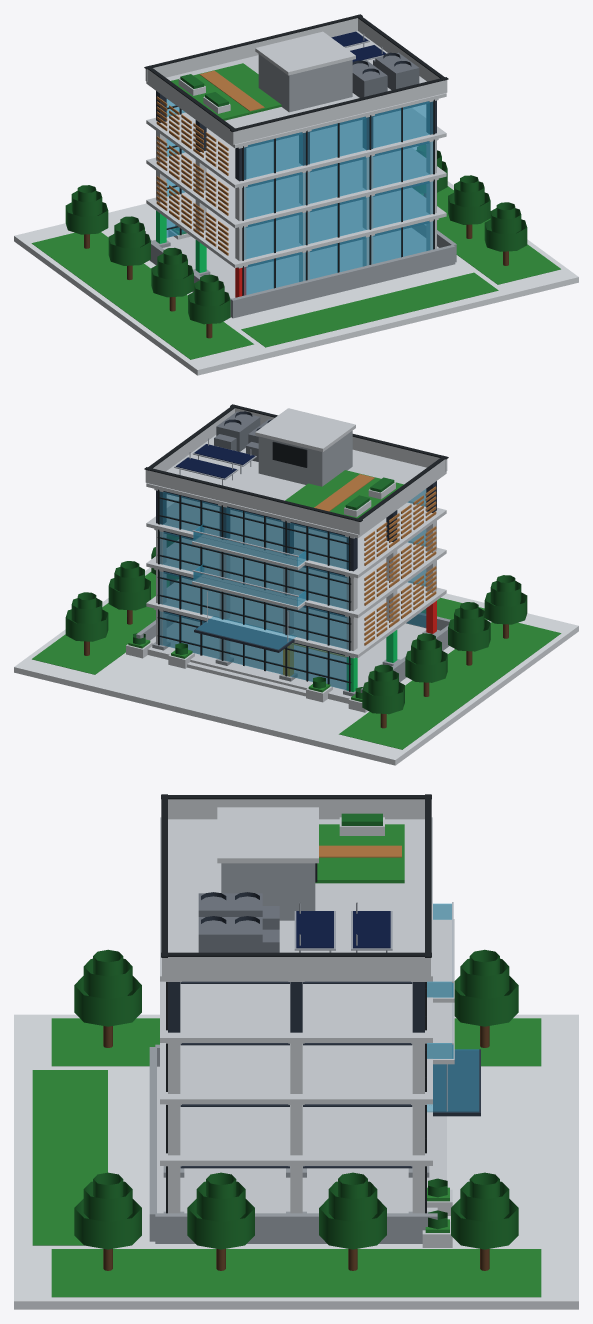
File: BIM_Building_Detailed.obj
3 views of the same model, one above another, from view 1: azimuth 30°, elevation 25°; view 2: azimuth 150°, elevation 25°; view 3: azimuth 270°, elevation 25° (orthographic). The views are drawn at different scales.
Parts seen in each view (by area): view 1: Group_Mat_PrecastConcrete, Group_Mat_CurtainGlass, Group_Mat_GreenTurf, Group_Mat_PlazaPaving, Group_Mat_TreeFoliage, Group_Mat_CoreConcrete, Group_Mat_TimberLouvers, Group_Mat_MetalMullion, Group_Mat_StructuralSteel, Group_Mat_HVACMetal, Group_Mat_SolarPV, Group_Mat_StatusComplete (+1 smaller); view 2: Group_Mat_PrecastConcrete, Group_Mat_CurtainGlass, Group_Mat_PlazaPaving, Group_Mat_GreenTurf, Group_Mat_TreeFoliage, Group_Mat_MetalMullion, Group_Mat_TimberLouvers, Group_Mat_CoreConcrete, Group_Mat_StructuralSteel, Group_Mat_HVACMetal, Group_Mat_SolarPV, Group_Mat_StatusComplete (+3 smaller); view 3: Group_Mat_PrecastConcrete, Group_Mat_GreenTurf, Group_Mat_PlazaPaving, Group_Mat_TreeFoliage, Group_Mat_CoreConcrete, Group_Mat_StructuralSteel, Group_Mat_MetalMullion, Group_Mat_HVACMetal, Group_Mat_CurtainGlass, Group_Mat_SolarPV, Group_Mat_TreeTrunk, Group_Mat_TimberLouvers (+1 smaller).
Boxes of the visible parts, bbox=[...] form: Group_Mat_PrecastConcrete: bbox=[145, 18, 447, 298]; Group_Mat_CurtainGlass: bbox=[166, 99, 433, 295]; Group_Mat_GreenTurf: bbox=[31, 63, 560, 359]; Group_Mat_PlazaPaving: bbox=[14, 181, 578, 375]; Group_Mat_TreeFoliage: bbox=[65, 74, 527, 324]; Group_Mat_CoreConcrete: bbox=[149, 54, 456, 318]; Group_Mat_TimberLouvers: bbox=[156, 70, 264, 255]; Group_Mat_MetalMullion: bbox=[144, 14, 448, 295]; Group_Mat_StructuralSteel: bbox=[156, 52, 436, 267]; Group_Mat_HVACMetal: bbox=[352, 52, 419, 97]; Group_Mat_SolarPV: bbox=[331, 31, 385, 61]; Group_Mat_StatusComplete: bbox=[156, 210, 206, 272]; Group_Mat_PrecastConcrete: bbox=[126, 408, 447, 712]; Group_Mat_CurtainGlass: bbox=[159, 489, 426, 690]; Group_Mat_PlazaPaving: bbox=[14, 567, 578, 765]; Group_Mat_GreenTurf: bbox=[32, 470, 561, 749]; Group_Mat_TreeFoliage: bbox=[65, 477, 527, 714]; Group_Mat_MetalMullion: bbox=[144, 404, 448, 691]; Group_Mat_TimberLouvers: bbox=[314, 474, 436, 645]; Group_Mat_CoreConcrete: bbox=[136, 431, 450, 696]; Group_Mat_StructuralSteel: bbox=[156, 411, 436, 652]; Group_Mat_HVACMetal: bbox=[214, 411, 270, 461]; Group_Mat_SolarPV: bbox=[176, 444, 254, 478]; Group_Mat_StatusComplete: bbox=[346, 630, 397, 691]; Group_Mat_PrecastConcrete: bbox=[157, 799, 454, 1247]; Group_Mat_GreenTurf: bbox=[32, 824, 541, 1297]; Group_Mat_PlazaPaving: bbox=[14, 1014, 578, 1309]; Group_Mat_TreeFoliage: bbox=[74, 813, 518, 1249]; Group_Mat_CoreConcrete: bbox=[149, 863, 437, 1243]; Group_Mat_StructuralSteel: bbox=[168, 892, 480, 1168]; Group_Mat_MetalMullion: bbox=[161, 794, 431, 1213]; Group_Mat_HVACMetal: bbox=[198, 893, 279, 952]; Group_Mat_CurtainGlass: bbox=[427, 903, 479, 1112]; Group_Mat_SolarPV: bbox=[296, 911, 390, 948]; Group_Mat_TreeTrunk: bbox=[103, 1026, 489, 1270]; Group_Mat_TimberLouvers: bbox=[319, 845, 401, 857].
Bounding box in the file's own units: 36 × 19.55 × 30.
